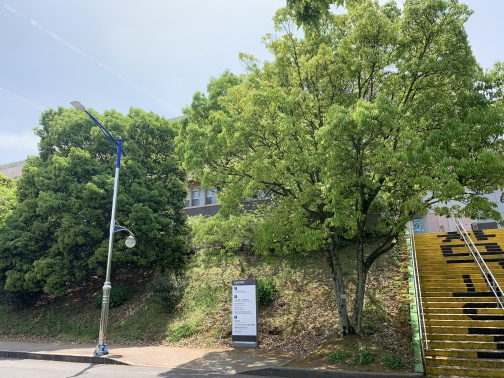College Of Education: (150, 98, 334, 219)
